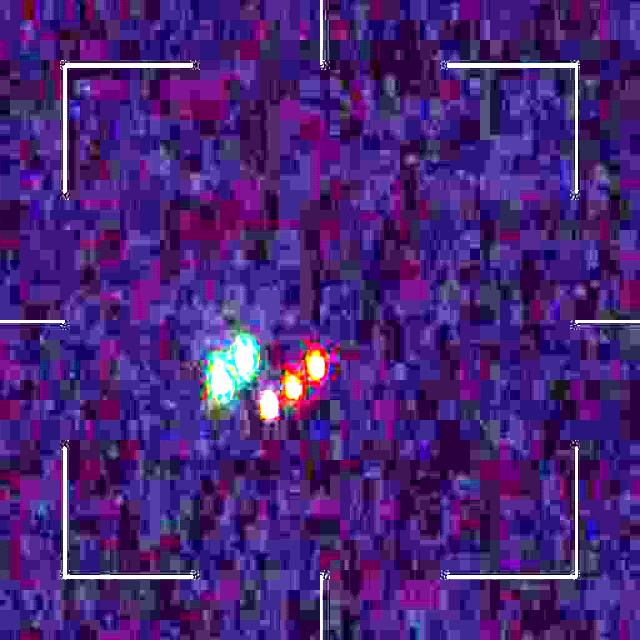bird: (212, 341, 331, 420)
